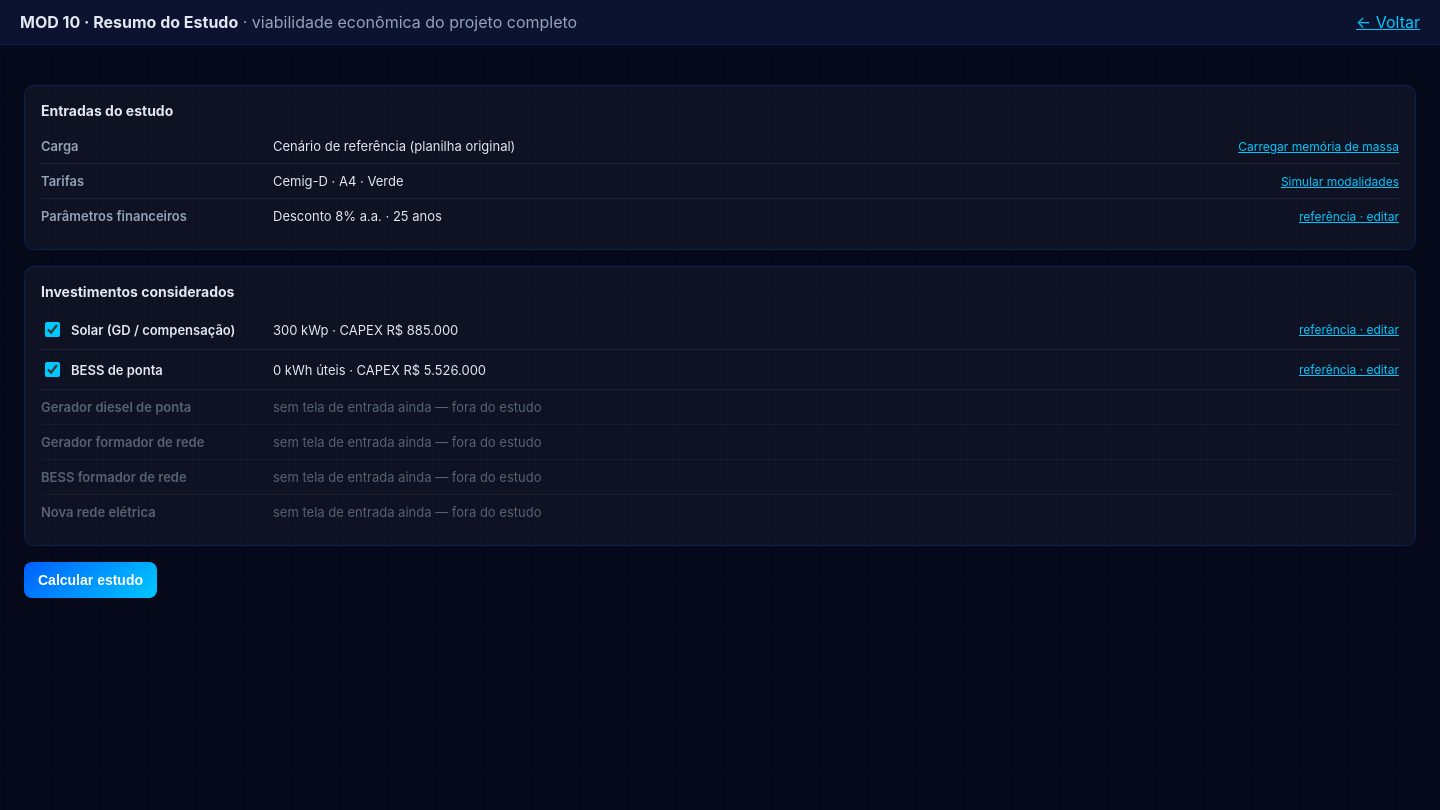
SummaryPage › calcula o estudo com o cenário de referência e mostra o resultado
The image size is (1440, 810).
Check: the text "Cenário de referência (planilha original)" is shown, box [273,138,515,154]
Check: the text "Cemig-D · A4 · Verde" is shown, box [273,173,404,189]
Click the button "Calcular estudo".
click(90, 580)  # box [24,562,157,598]
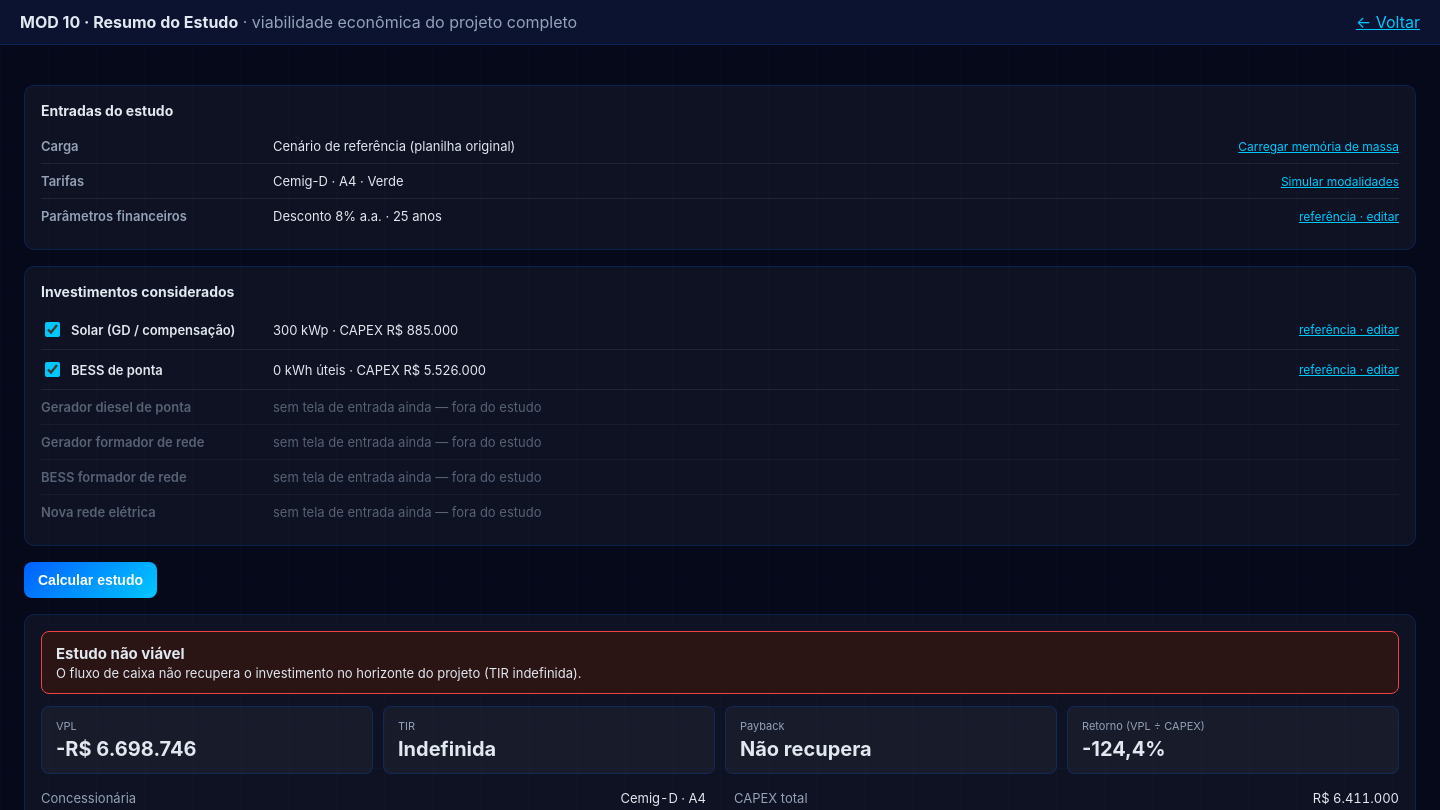
Check: the text "Estudo não viável" is shown, box [56,644,185,663]
Check: the text "TIR indefinida" is shown, box [56,665,582,681]
Check: the text "Não recupera" is shown, box [740,737,872,761]
